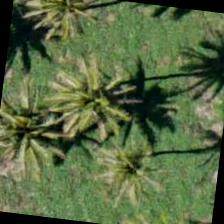Kelapa_Sawit: (46, 47, 146, 147), (80, 124, 180, 224), (0, 81, 69, 179), (22, 0, 118, 50)
